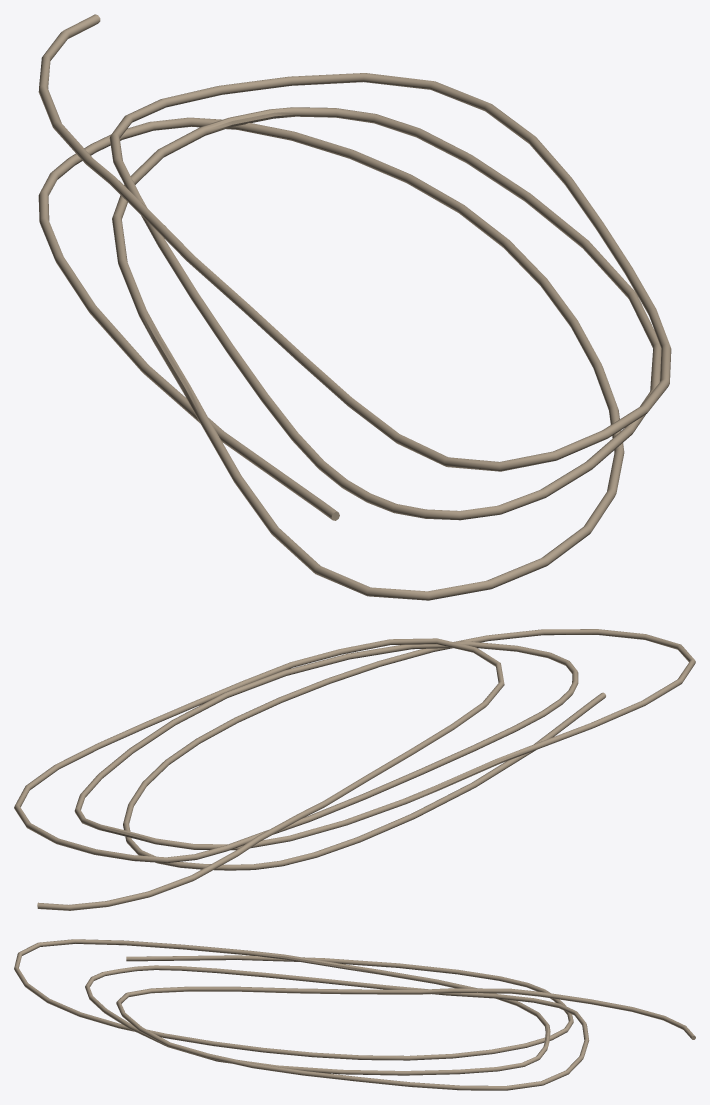
Rendered from Rope 1.fbx.
3 renders of one model, top to bottom at view 1: azimuth 30°, elevation 25°; view 2: azimuth 150°, elevation 25°; view 3: azimuth 270°, elevation 25°, orthographic. The views are drawn at different scales.
Visible parts, largest first — view 1: pCylinder23; view 2: pCylinder23; view 3: pCylinder23.
Part boxes in pixels (x1,y1,x2,y2): pCylinder23: (38,14,671,600); pCylinder23: (14,629,695,910); pCylinder23: (14,939,695,1090).
Bounding box in the file's own units: 2.46 × 0.1068 × 4.77.
